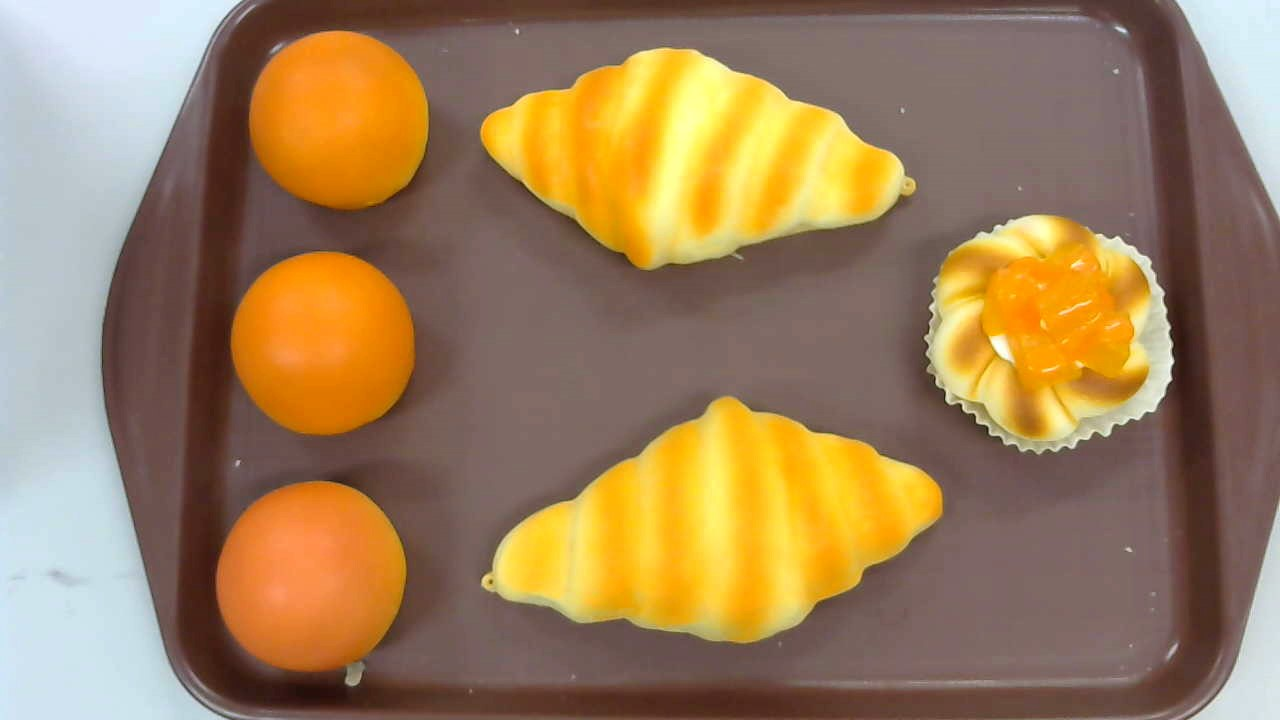bun: (216, 481, 408, 673), (231, 251, 415, 437), (248, 29, 429, 210)
croissant: (481, 395, 942, 645), (480, 44, 917, 272)
mango tart: (923, 211, 1176, 455)
